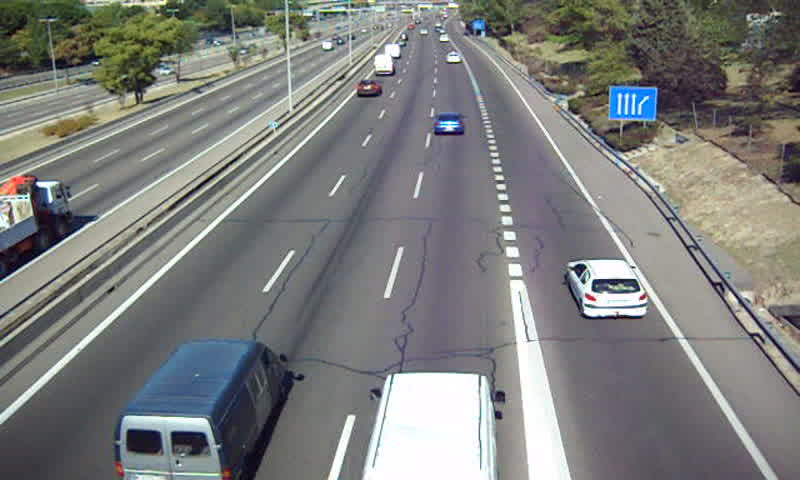car: (566, 258, 649, 320), (431, 111, 467, 136), (356, 79, 381, 99)
van: (115, 340, 286, 480), (361, 373, 497, 480), (372, 54, 396, 76)
